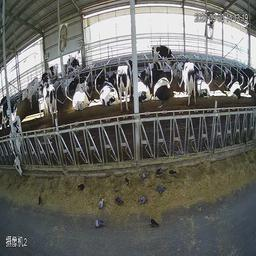cow: (6, 114, 24, 182), (116, 45, 132, 113), (179, 57, 198, 108), (150, 65, 171, 110), (100, 69, 120, 114), (71, 78, 96, 113), (198, 64, 218, 105), (39, 82, 58, 125), (222, 69, 242, 104), (149, 40, 175, 66), (138, 65, 152, 109), (21, 76, 38, 107), (41, 58, 61, 80), (242, 60, 253, 95), (64, 53, 79, 77)
